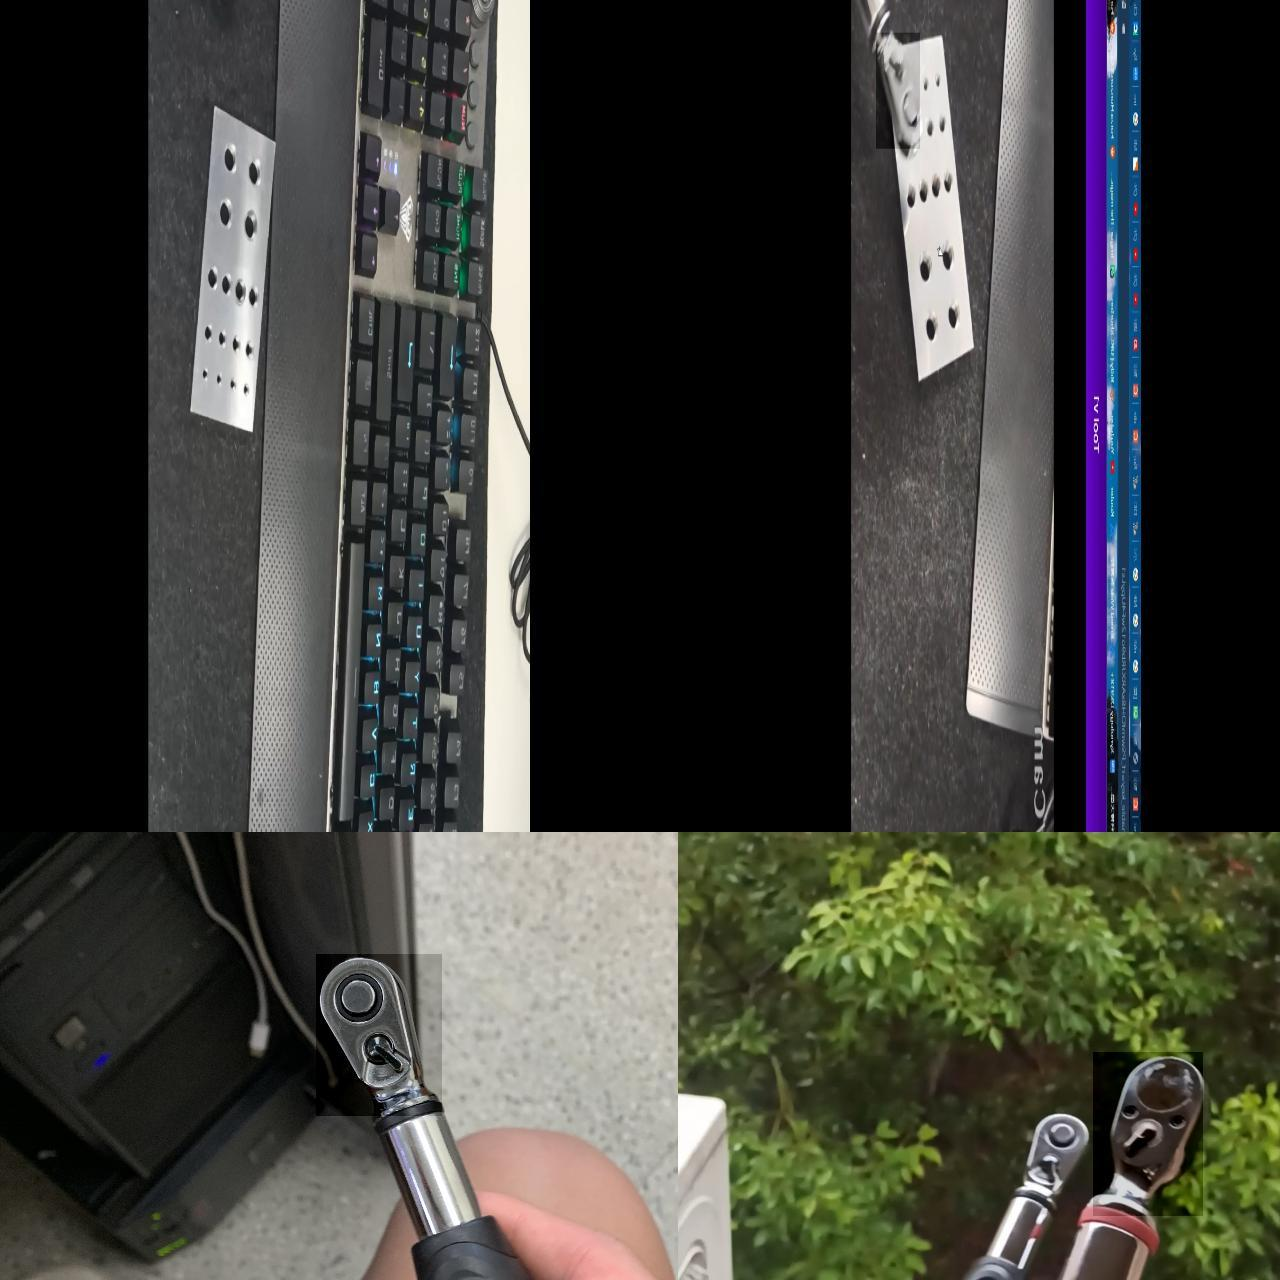Tool: (316, 953, 442, 1115), (1092, 1051, 1203, 1216), (1008, 1110, 1090, 1205), (876, 32, 919, 148)
